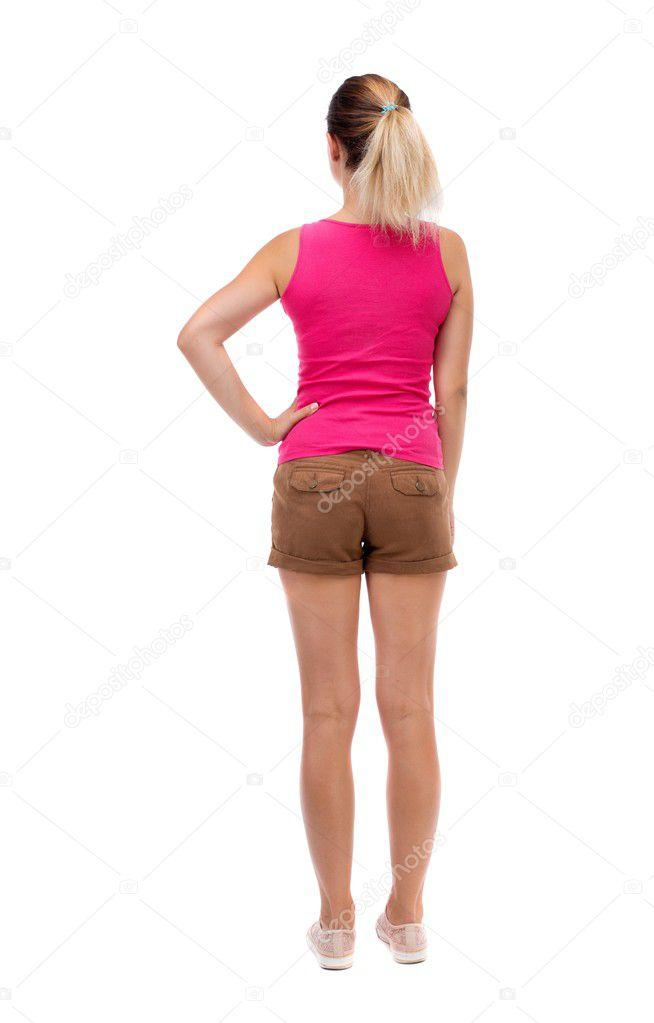Shorts: (263, 450, 467, 579)
vest: (270, 214, 453, 474)
